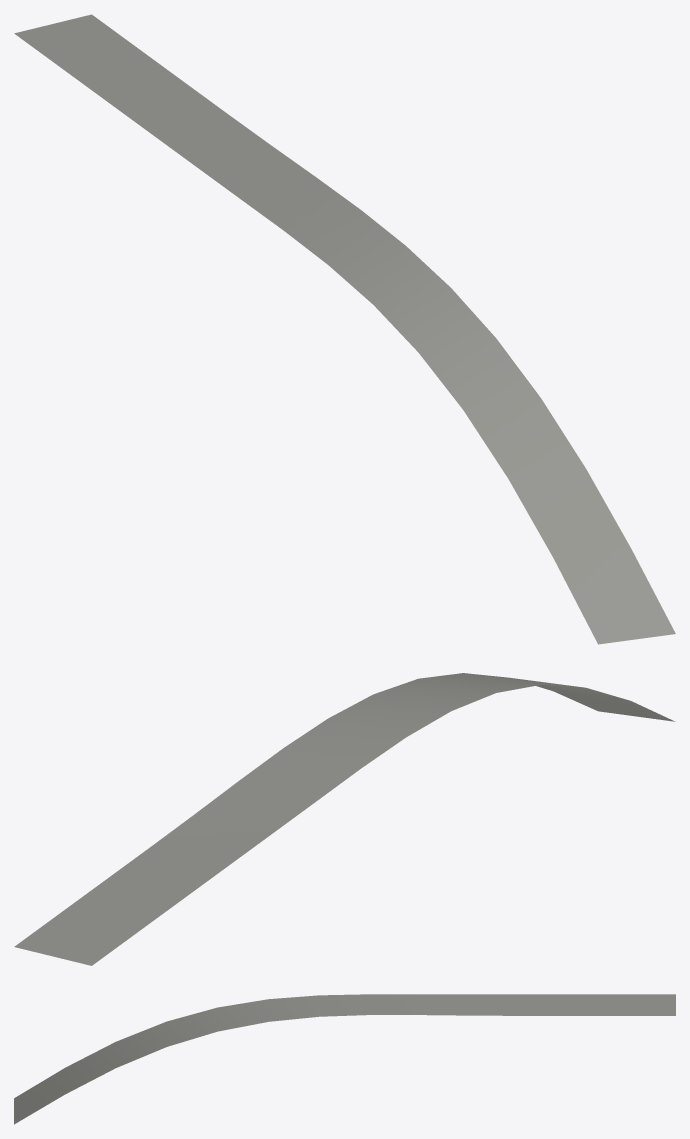
File: alpine-7-2.glb
3 renders of one model, top to bottom at view 1: azimuth 30°, elevation 25°; view 2: azimuth 150°, elevation 25°; view 3: azimuth 270°, elevation 25°, orthographic. The views are drawn at different scales.
Visible parts, largest first — view 1: alpine-7-2; view 2: alpine-7-2; view 3: alpine-7-2.
Part boxes in pixels (x1=…): alpine-7-2: x1=14, y1=14, x2=675, y2=644; alpine-7-2: x1=14, y1=673, x2=675, y2=965; alpine-7-2: x1=14, y1=994, x2=675, y2=1124.
Size of the model in its own units: 8 by 19.01 by 104.
Materials: 1 (1 with a texture image).
